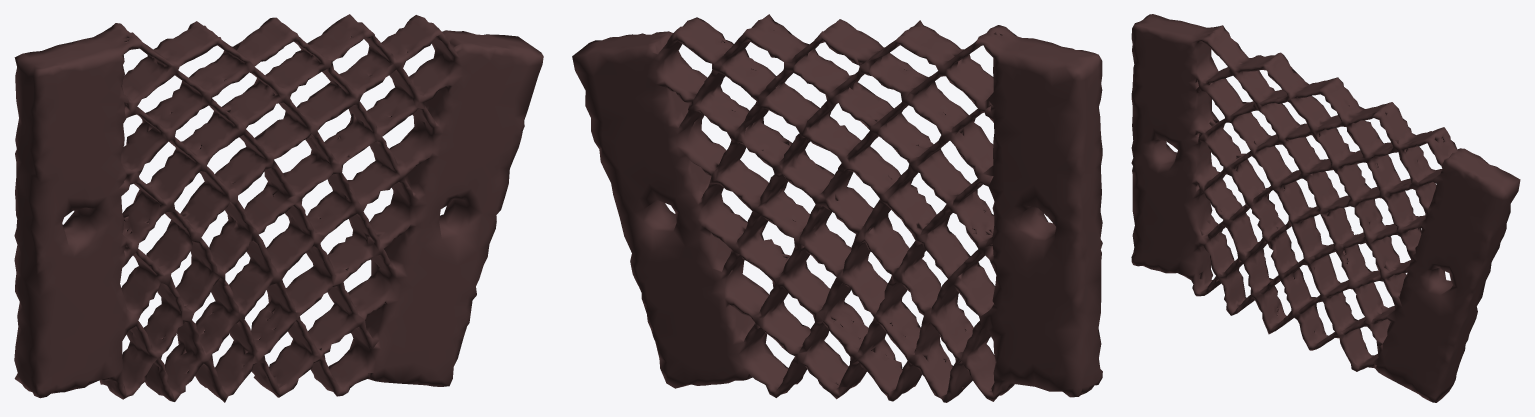
Rendered from change_diamond.obj.
3 views of the same model, side by side, from view 1: azimuth 30°, elevation 25°; view 2: azimuth 150°, elevation 25°; view 3: azimuth 330°, elevation 25° (orthographic). The views are drawn at different scales.
Parts seen in each view (by area): view 1: 3_OglModel; view 2: 3_OglModel; view 3: 3_OglModel.
Part boxes in pixels (x1=…): 3_OglModel: x1=14, y1=14, x2=543, y2=402; 3_OglModel: x1=572, y1=14, x2=1102, y2=402; 3_OglModel: x1=1131, y1=14, x2=1520, y2=402.
Size of the model in its own units: 6.02 by 4.82 by 0.5308.
